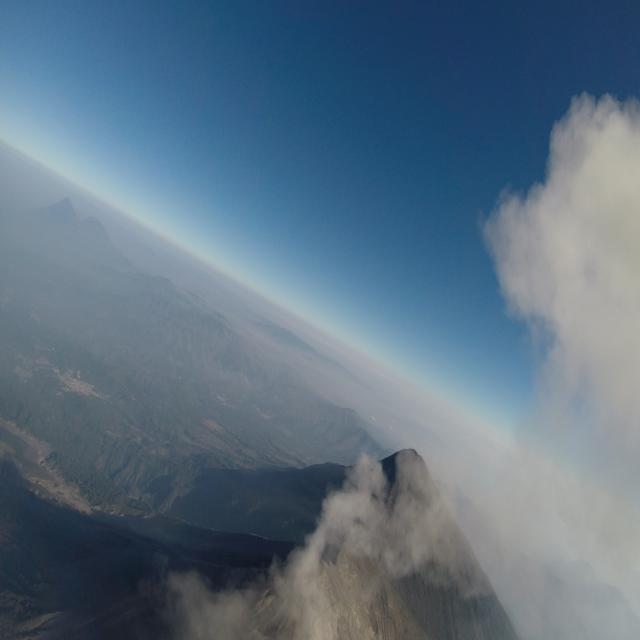Plume: (479, 63, 640, 417)
